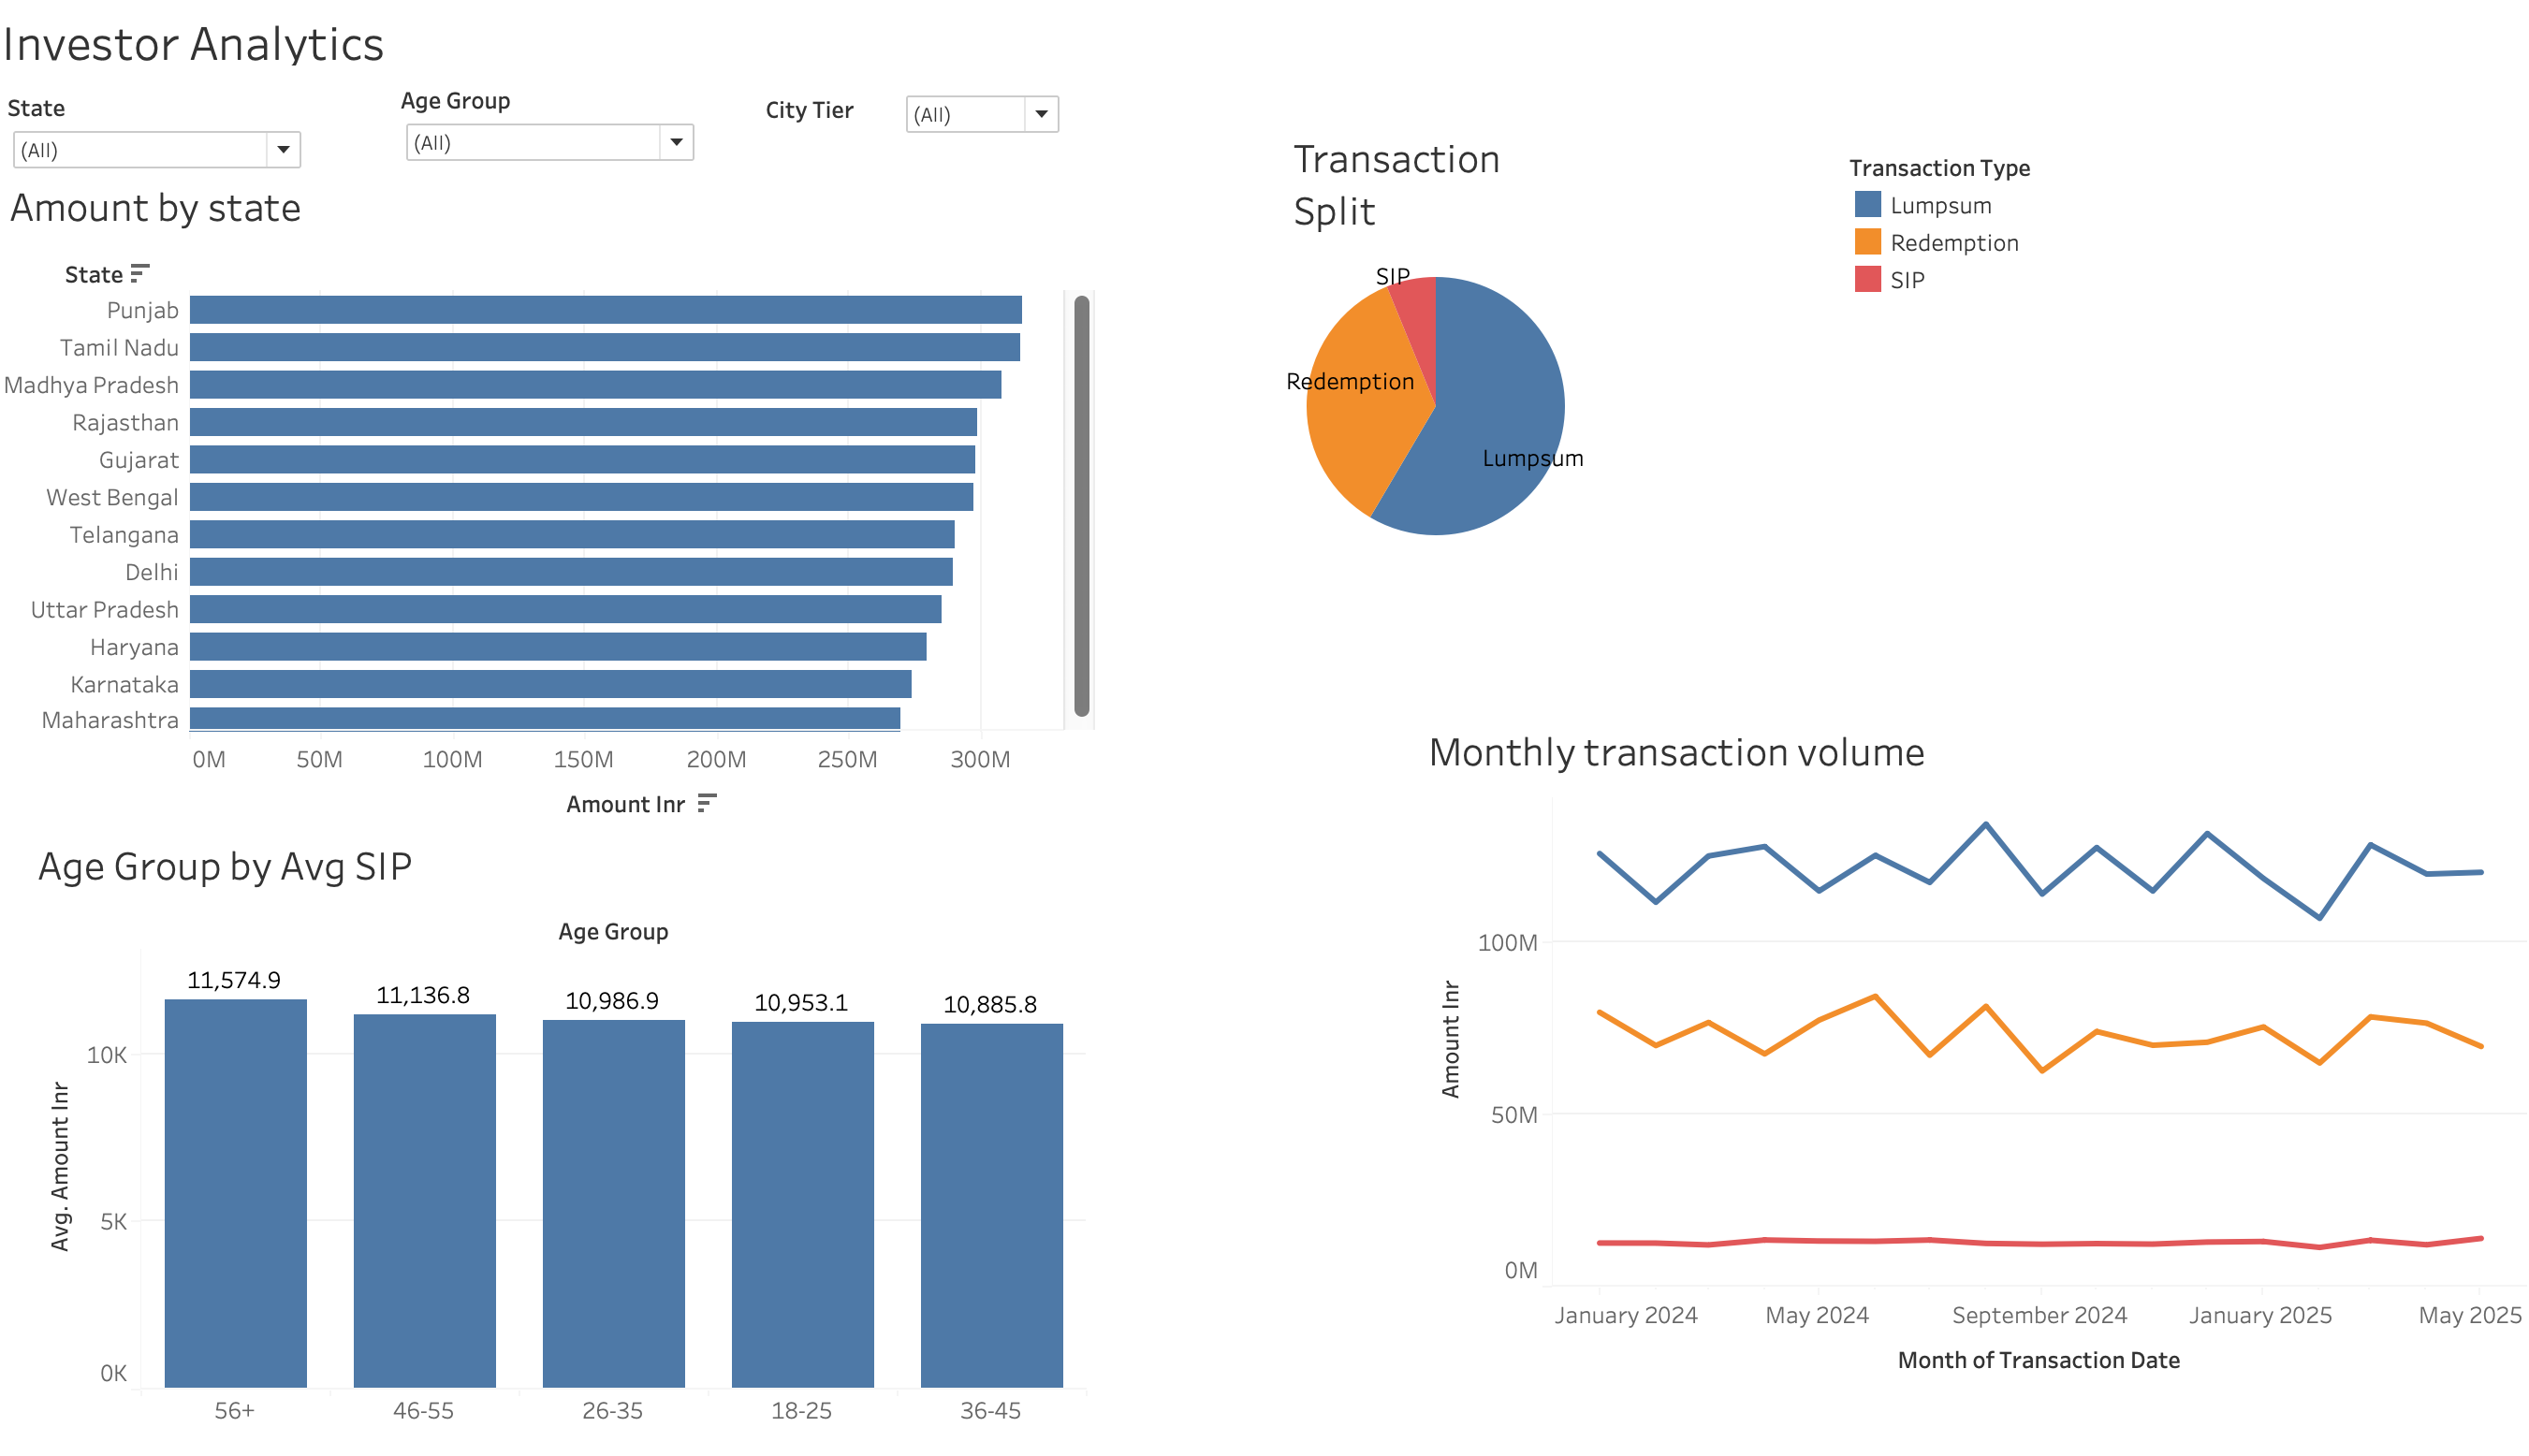

What the dashboard file says about the page in this screenshot:
{"tool":"tableau","page":{"name":"Dashboard 3","canvas":[1366,768],"ordinal":2},"visuals":[{"type":"title","box":[8,8,1350,32]},{"type":"filter","title":"Age group by SIP ","param":"[federated.1mv2zjj0ygra7o1372wbn0zn3fx3].[none:age_group:nk]","box":[228,46,160,53]},{"type":"filter","title":"Age group by SIP ","param":"[federated.1mv2zjj0ygra7o1372wbn0zn3fx3].[none:city_tier:nk]","box":[423,49,160,37]},{"type":"filter","title":"Amount by state ","param":"[federated.1mv2zjj0ygra7o1372wbn0zn3fx3].[none:state:nk]","box":[18,50,160,47]},{"type":"worksheet","title":"Transaction Split ","mark":"Pie","box":[701,67,524,322]},{"type":"legend","title":"Transaction Split ","param":"[federated.1mv2zjj0ygra7o1372wbn0zn3fx3].[none:transaction_type:nk]","box":[1002,82,140,78]},{"type":"worksheet","title":"Amount by state ","mark":"Automatic","rows":["state"],"cols":["amount_inr"],"box":[15,93,584,353]},{"type":"worksheet","title":"Monthly transaction volume","mark":"Line","rows":["amount_inr"],"cols":["transaction_date"],"box":[773,384,591,359]},{"type":"worksheet","title":"Age group by SIP ","mark":"Automatic","rows":["amount_inr"],"cols":["age_group"],"box":[30,445,565,319]}]}

Visuals, with their boxes in screenshot pixels (x1, y1, x2, y2), scaled from the page's 1366x768 canvas onto the 2529x1456 screenshot:
title: 15, 15, 2514, 76
"Age group by SIP " filter: 422, 87, 718, 188
"Age group by SIP " filter: 783, 93, 1079, 163
"Amount by state " filter: 34, 95, 329, 184
"Transaction Split " worksheet (Pie marks): 1298, 127, 2268, 737
"Transaction Split " legend: 1855, 155, 2114, 303
"Amount by state " worksheet: 28, 176, 1109, 846
"Monthly transaction volume" worksheet (Line marks): 1431, 728, 2525, 1408
"Age group by SIP " worksheet: 55, 844, 1102, 1449
